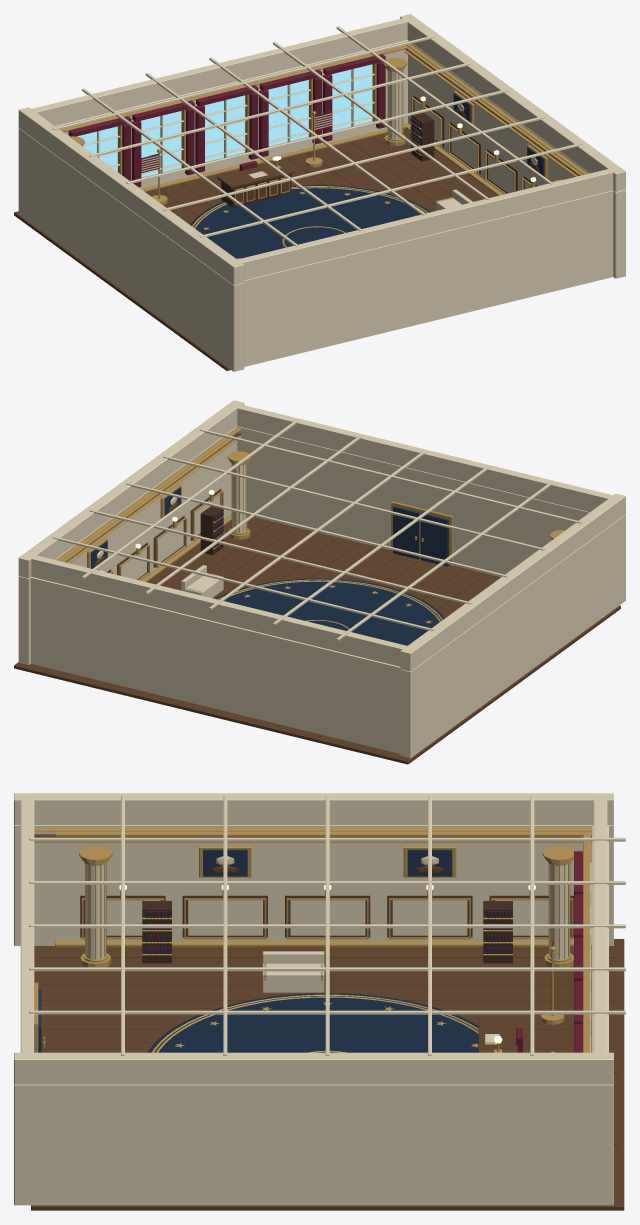
The model's file is oval-arena.glb.
3 views of the same model, one above another, from view 1: azimuth 30°, elevation 25°; view 2: azimuth 150°, elevation 25°; view 3: azimuth 270°, elevation 25° (orthographic). The views are drawn at different scales.
Visible parts, largest first — view 1: OvalArenaGeometry; view 2: OvalArenaGeometry; view 3: OvalArenaGeometry.
Boxes of the visible parts, box(x1,y1,x2,y2) form: OvalArenaGeometry: box(14, 14, 625, 371); OvalArenaGeometry: box(14, 400, 625, 764); OvalArenaGeometry: box(14, 793, 625, 1210).
Bounding box in the file's own units: 38.13 × 10.11 × 36.8.
